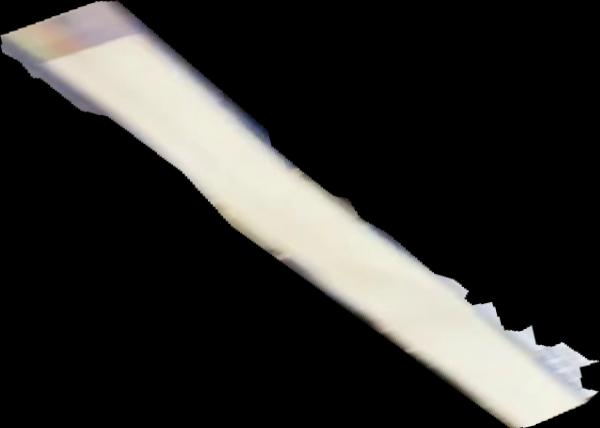backward: (1, 1, 600, 428)
